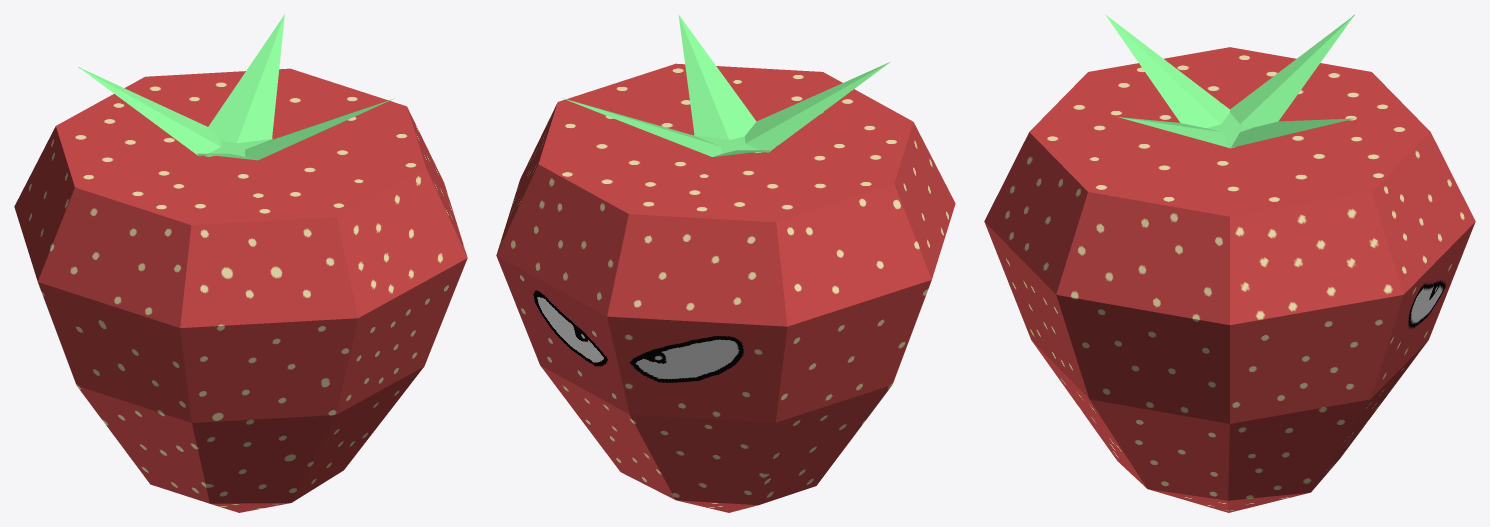
The model's file is strawberry.glb.
3 views of the same model, side by side, from view 1: azimuth 30°, elevation 25°; view 2: azimuth 150°, elevation 25°; view 3: azimuth 270°, elevation 25° (orthographic). The views are drawn at different scales.
Visible parts, largest first — view 1: Cone; view 2: Cone; view 3: Cone.
Part boxes in pixels (bbox=[...]): Cone: bbox=[14, 14, 467, 512]; Cone: bbox=[496, 14, 955, 512]; Cone: bbox=[984, 14, 1475, 512].
Bounding box in the file's own units: 2 × 2.02 × 2.
Materials: 1 (1 with a texture image).
